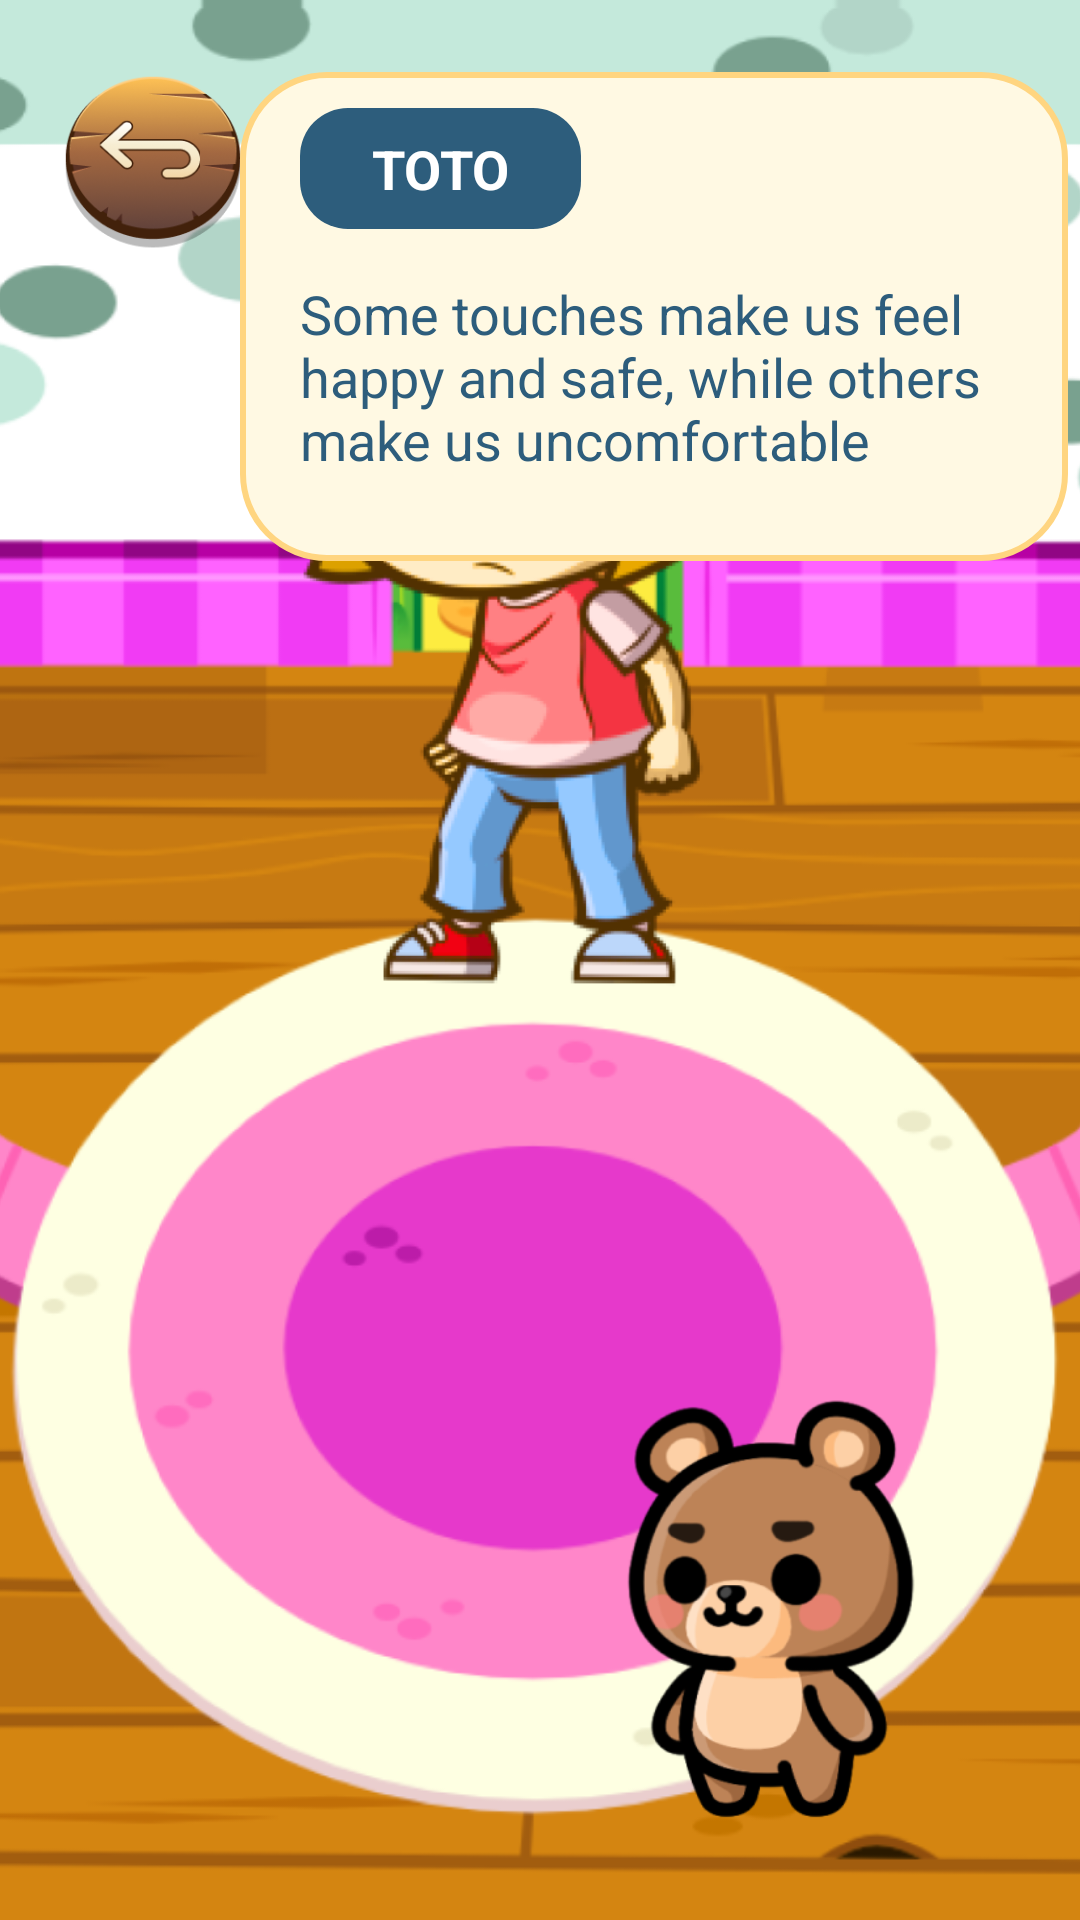

Where to tap for icons on this 1080px x 1920px app screen, as [x,y]:
back: [153,153]
